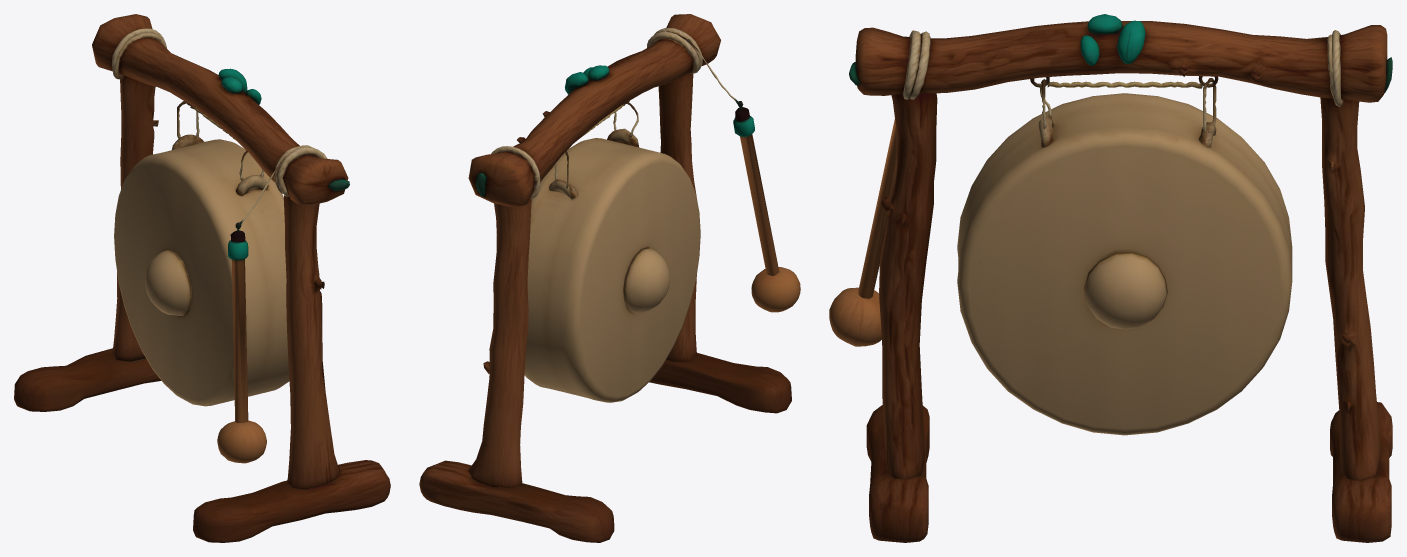
File: warning-gong.glb
3 renders of one model, left to right at view 1: azimuth 30°, elevation 25°; view 2: azimuth 150°, elevation 25°; view 3: azimuth 270°, elevation 25°, orthographic. The views are drawn at different scales.
Parts seen in each view (by area): view 1: tripo_node_2b601b7a-8ba5-41c1-9d24-3427901c38f5; view 2: tripo_node_2b601b7a-8ba5-41c1-9d24-3427901c38f5; view 3: tripo_node_2b601b7a-8ba5-41c1-9d24-3427901c38f5.
Part boxes in pixels (x1=…): tripo_node_2b601b7a-8ba5-41c1-9d24-3427901c38f5: x1=14, y1=14, x2=390, y2=542; tripo_node_2b601b7a-8ba5-41c1-9d24-3427901c38f5: x1=419, y1=14, x2=800, y2=542; tripo_node_2b601b7a-8ba5-41c1-9d24-3427901c38f5: x1=829, y1=14, x2=1392, y2=542.
Bounding box in the file's own units: 0.502 × 0.9512 × 0.998.
Materials: 1 (1 with a texture image).
